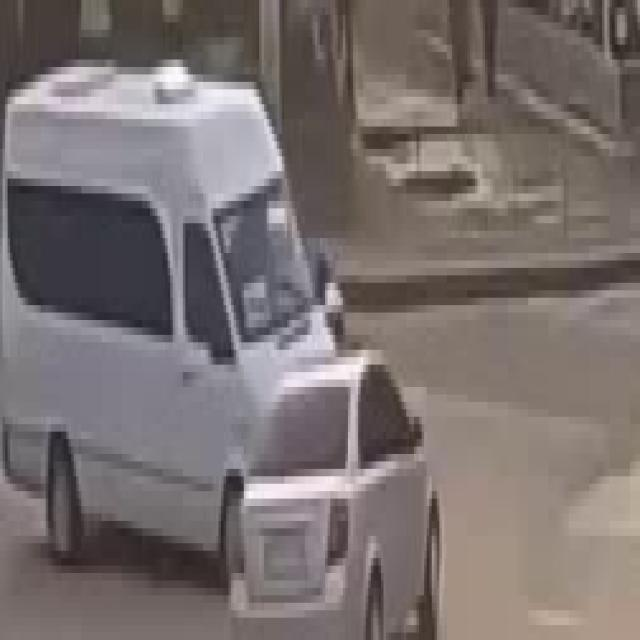accident: (18, 59, 448, 607)
